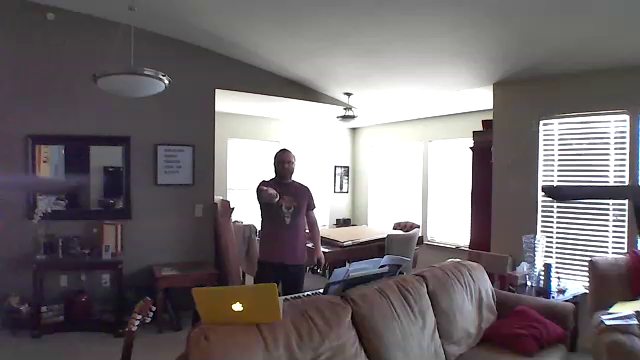land: (258, 185, 283, 203)
